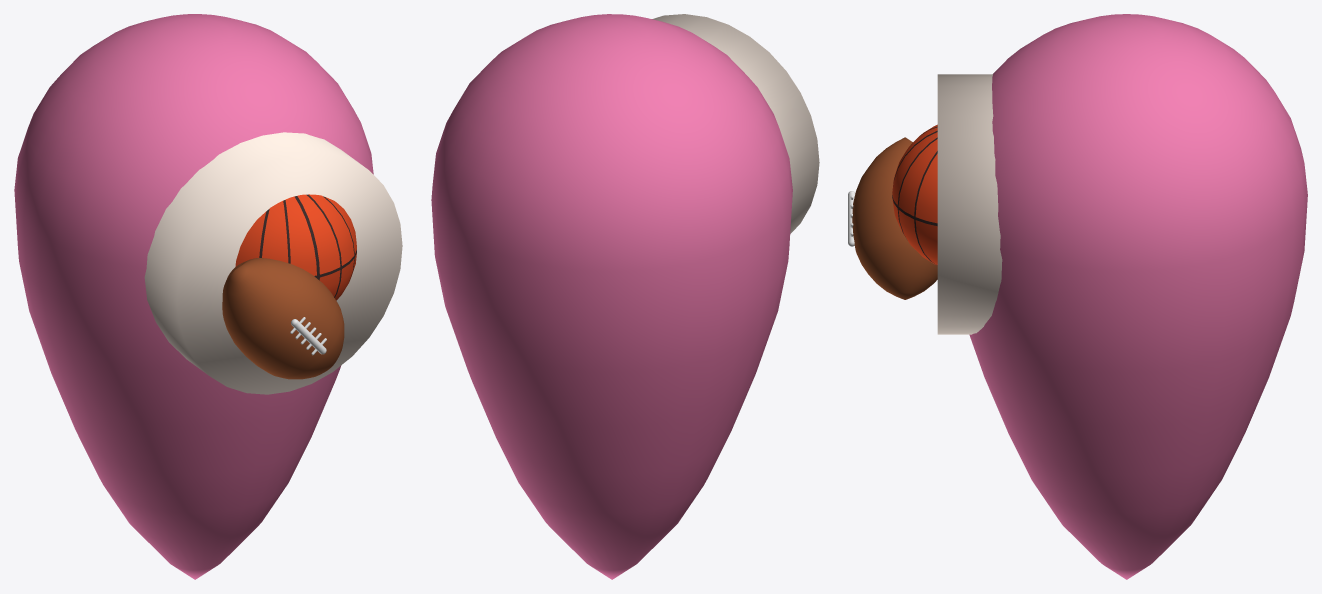
File: activityPin.glb
The picture shows the model from 3 angles, left to right: view 1: azimuth 30°, elevation 25°; view 2: azimuth 150°, elevation 25°; view 3: azimuth 270°, elevation 25°; orthographic projection.
Parts seen in each view (by area): view 1: pin.006, Cylinder.013, Sphere.024, Sphere.031; view 2: pin.006, Cylinder.013; view 3: pin.006, Cylinder.013, Sphere.024, Sphere.031.
Part boxes in pixels (box(x1,y1,x2,y2)): pin.006: box(14, 14, 373, 579); Cylinder.013: box(144, 132, 402, 394); Sphere.024: box(222, 258, 344, 379); Sphere.031: box(235, 194, 356, 300); pin.006: box(431, 14, 792, 579); Cylinder.013: box(652, 14, 819, 233); pin.006: box(969, 14, 1307, 579); Cylinder.013: box(937, 74, 1002, 334); Sphere.024: box(852, 137, 937, 299); Sphere.031: box(892, 124, 937, 265).
Size of the model in its own units: 0.2435 by 0.4072 by 0.309.
